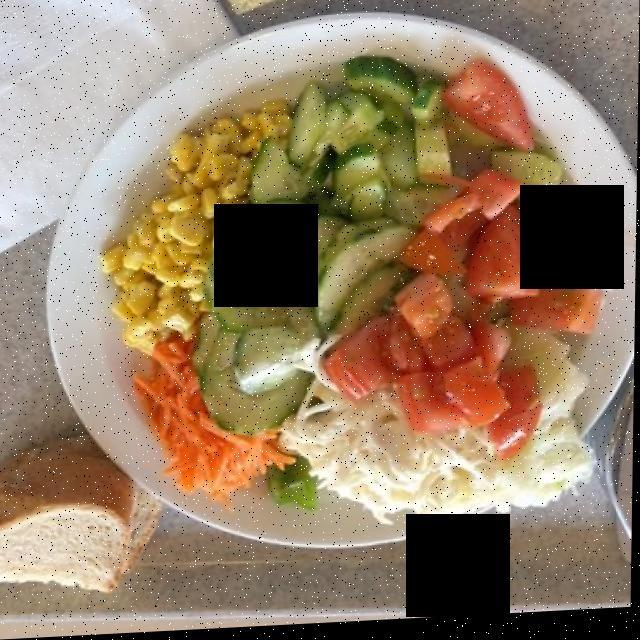bread: (0, 442, 161, 593)
carrot: (133, 342, 292, 498)
celeriac: (296, 353, 595, 523)
corn: (100, 95, 294, 354)
cucumber: (173, 58, 571, 440)
tomato: (339, 79, 602, 462)
